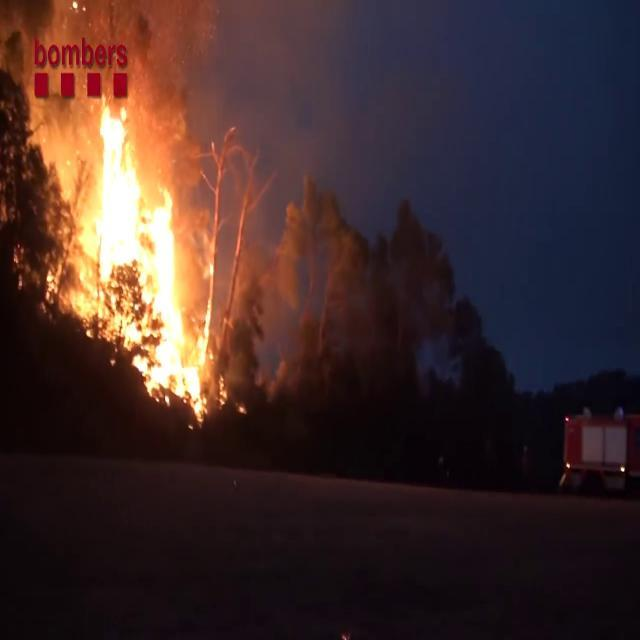Fire: (72, 89, 218, 408)
